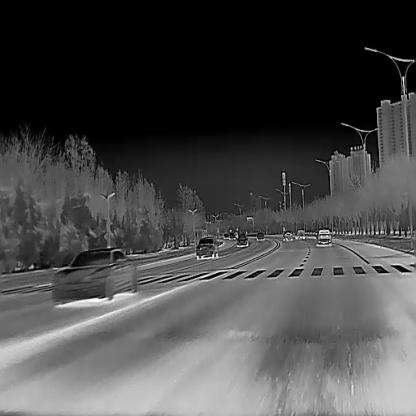car: (51, 246, 137, 299), (195, 235, 218, 258), (315, 228, 332, 245), (236, 233, 247, 246), (294, 227, 305, 239), (283, 229, 292, 240), (256, 230, 264, 240), (228, 231, 235, 239), (223, 232, 228, 238)
